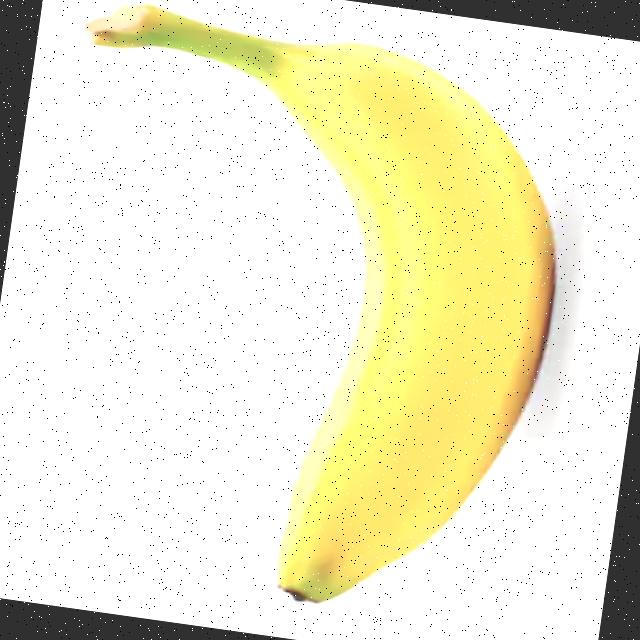banana: (4, 0, 587, 636)
